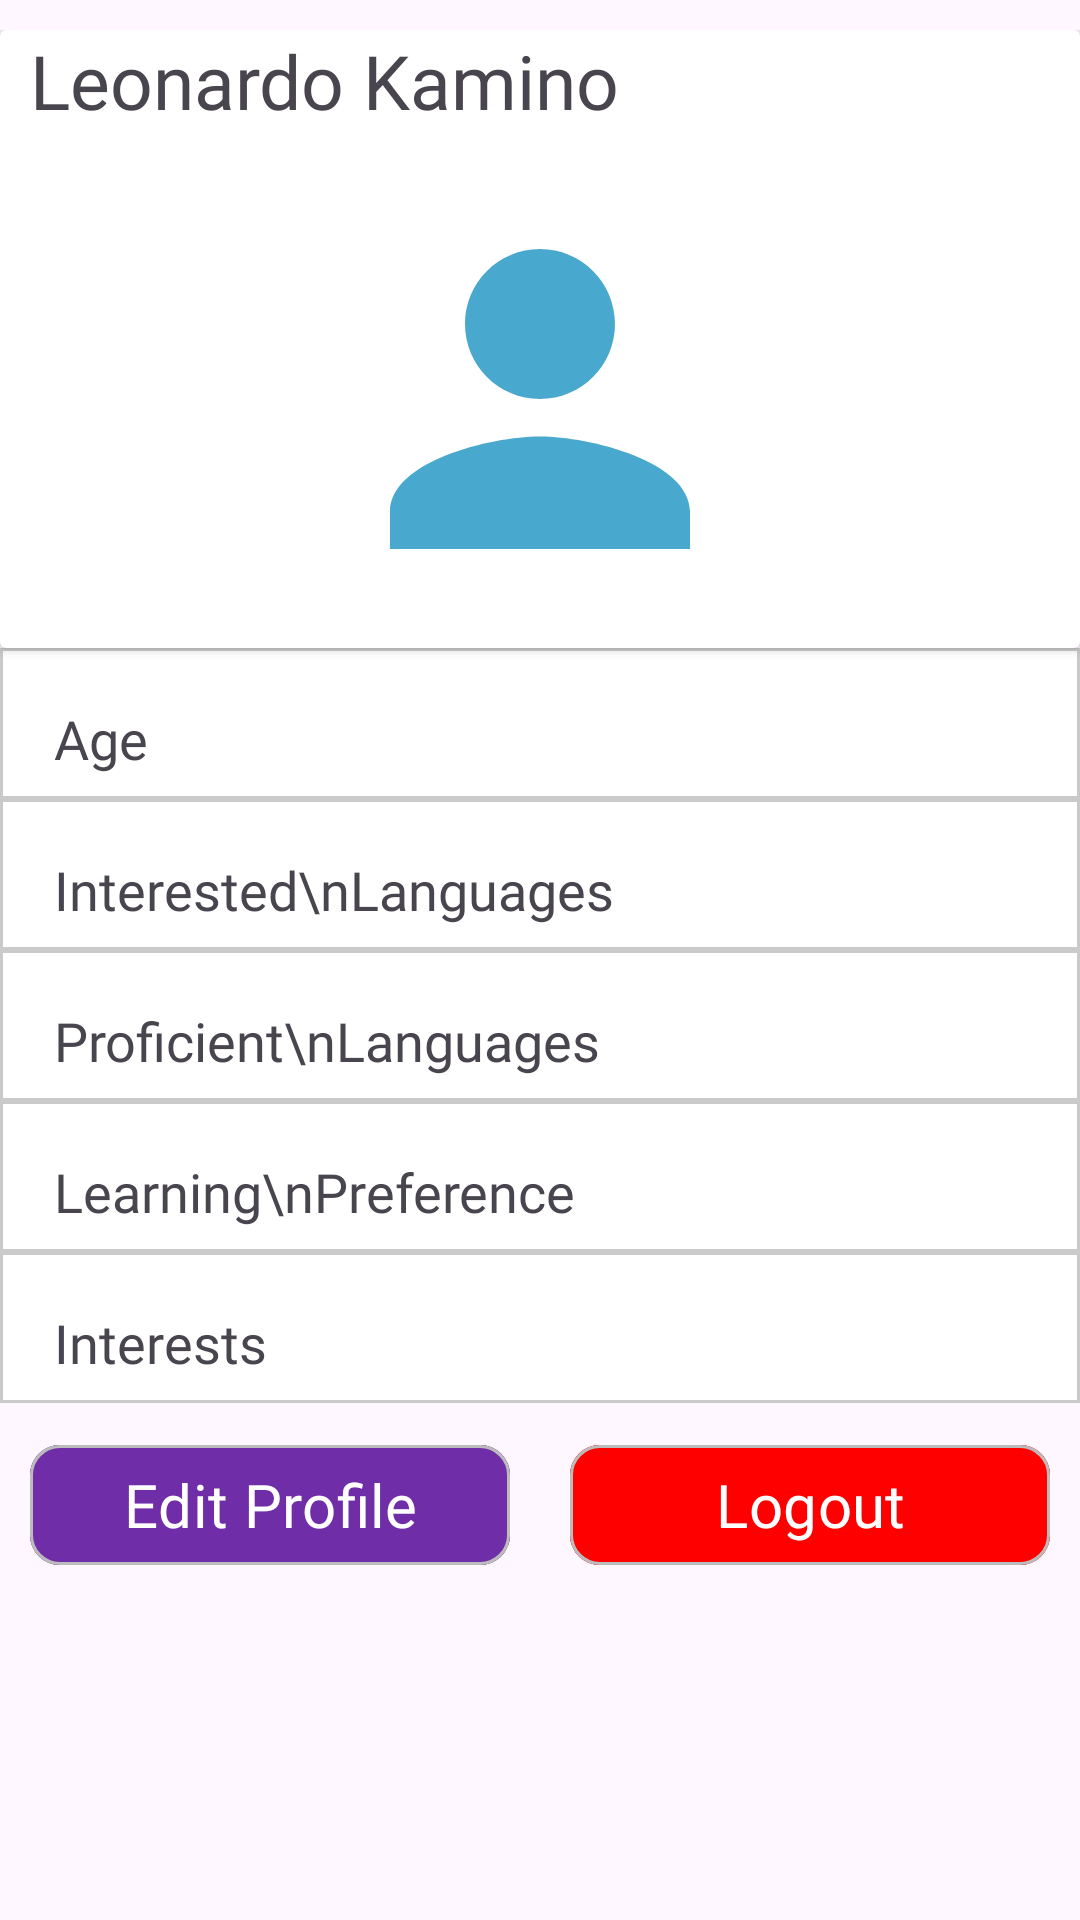

Where to tap for icons on this 1080px×1920px app screen, as (x=x, y=y):
person: (x=540, y=399)
